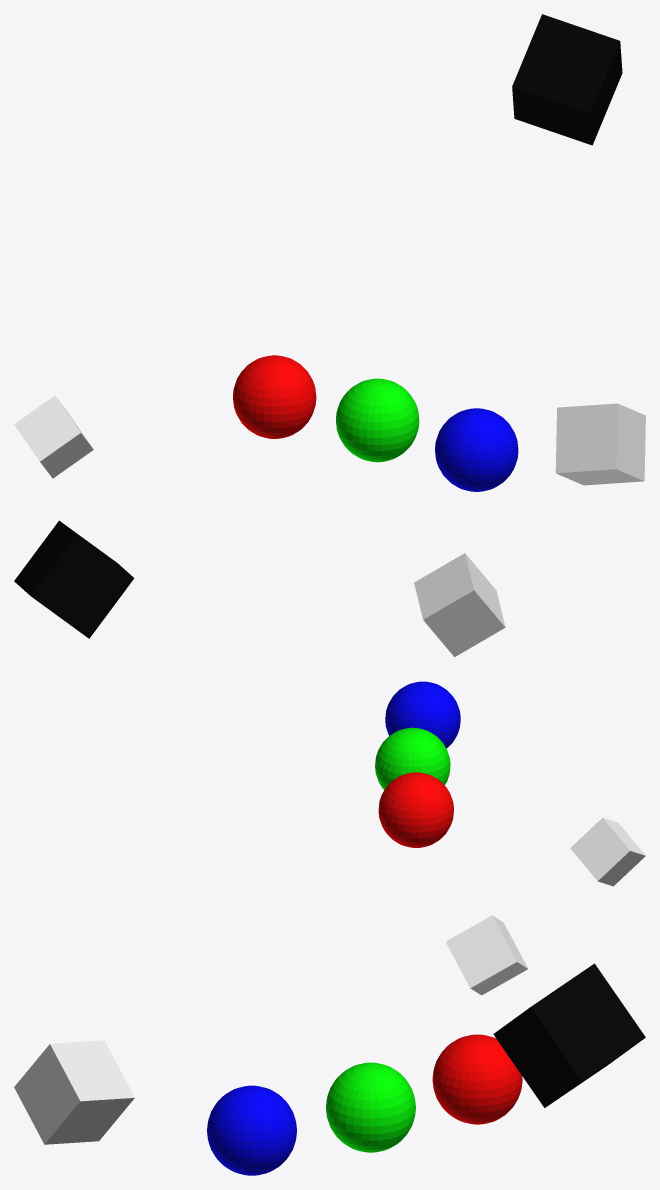
File: pathtracing.gltf
The picture shows the model from 3 angles, top to bottom: view 1: azimuth 30°, elevation 25°; view 2: azimuth 150°, elevation 25°; view 3: azimuth 270°, elevation 25°; orthographic projection. The views are drawn at different scales.
Visible parts, largest first — view 1: Cube.002, Cube.001, Sphere, Sphere.002, Sphere.001, Cube; view 2: Cube.002, Cube.001, Sphere.002, Sphere.001, Sphere, Cube; view 3: Cube.002, Cube.001, Sphere.001, Sphere, Sphere.002, Cube.
Boxes of the visible parts, x1,y1,x2,y2 form: Cube.002: (512, 14, 622, 145); Cube.001: (555, 403, 645, 485); Sphere: (336, 378, 419, 462); Sphere.002: (233, 355, 316, 438); Sphere.001: (435, 408, 518, 491); Cube: (14, 396, 93, 478); Cube.002: (14, 520, 134, 638); Cube.001: (414, 553, 505, 657); Sphere.002: (378, 772, 453, 847); Sphere.001: (385, 681, 460, 748); Sphere: (375, 727, 450, 789); Cube: (570, 817, 645, 886); Cube.002: (493, 963, 645, 1107); Cube.001: (14, 1040, 134, 1144); Sphere.001: (207, 1085, 296, 1175); Sphere: (326, 1062, 415, 1152); Sphere.002: (432, 1034, 522, 1124); Cube: (446, 915, 527, 995).
Size of what is drawn, in the model's own units: 17.78 by 7.98 by 14.02.
